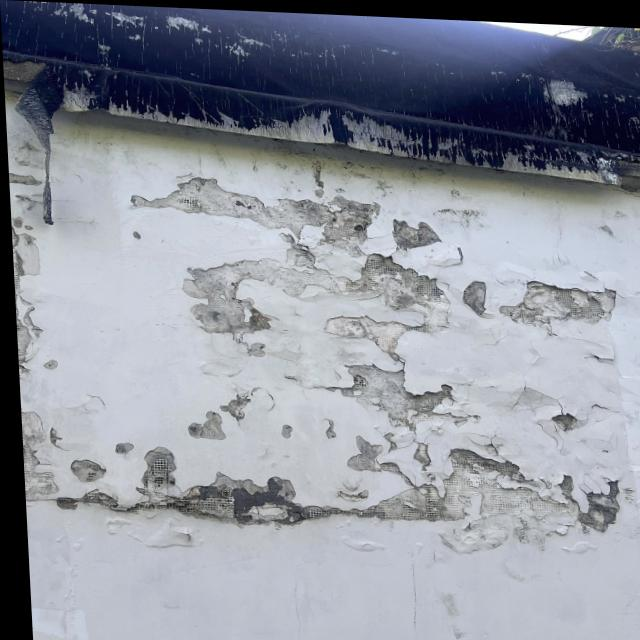spalling: (38, 174, 640, 566)
